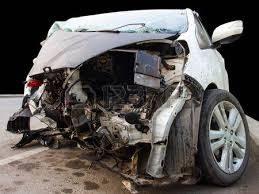Broken-glass: (63, 9, 187, 33)
Smashed: (23, 31, 201, 167)
